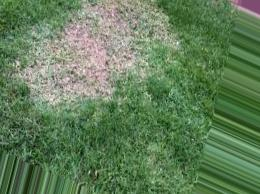patch: (64, 32, 107, 94), (29, 61, 57, 99), (100, 4, 125, 30)
